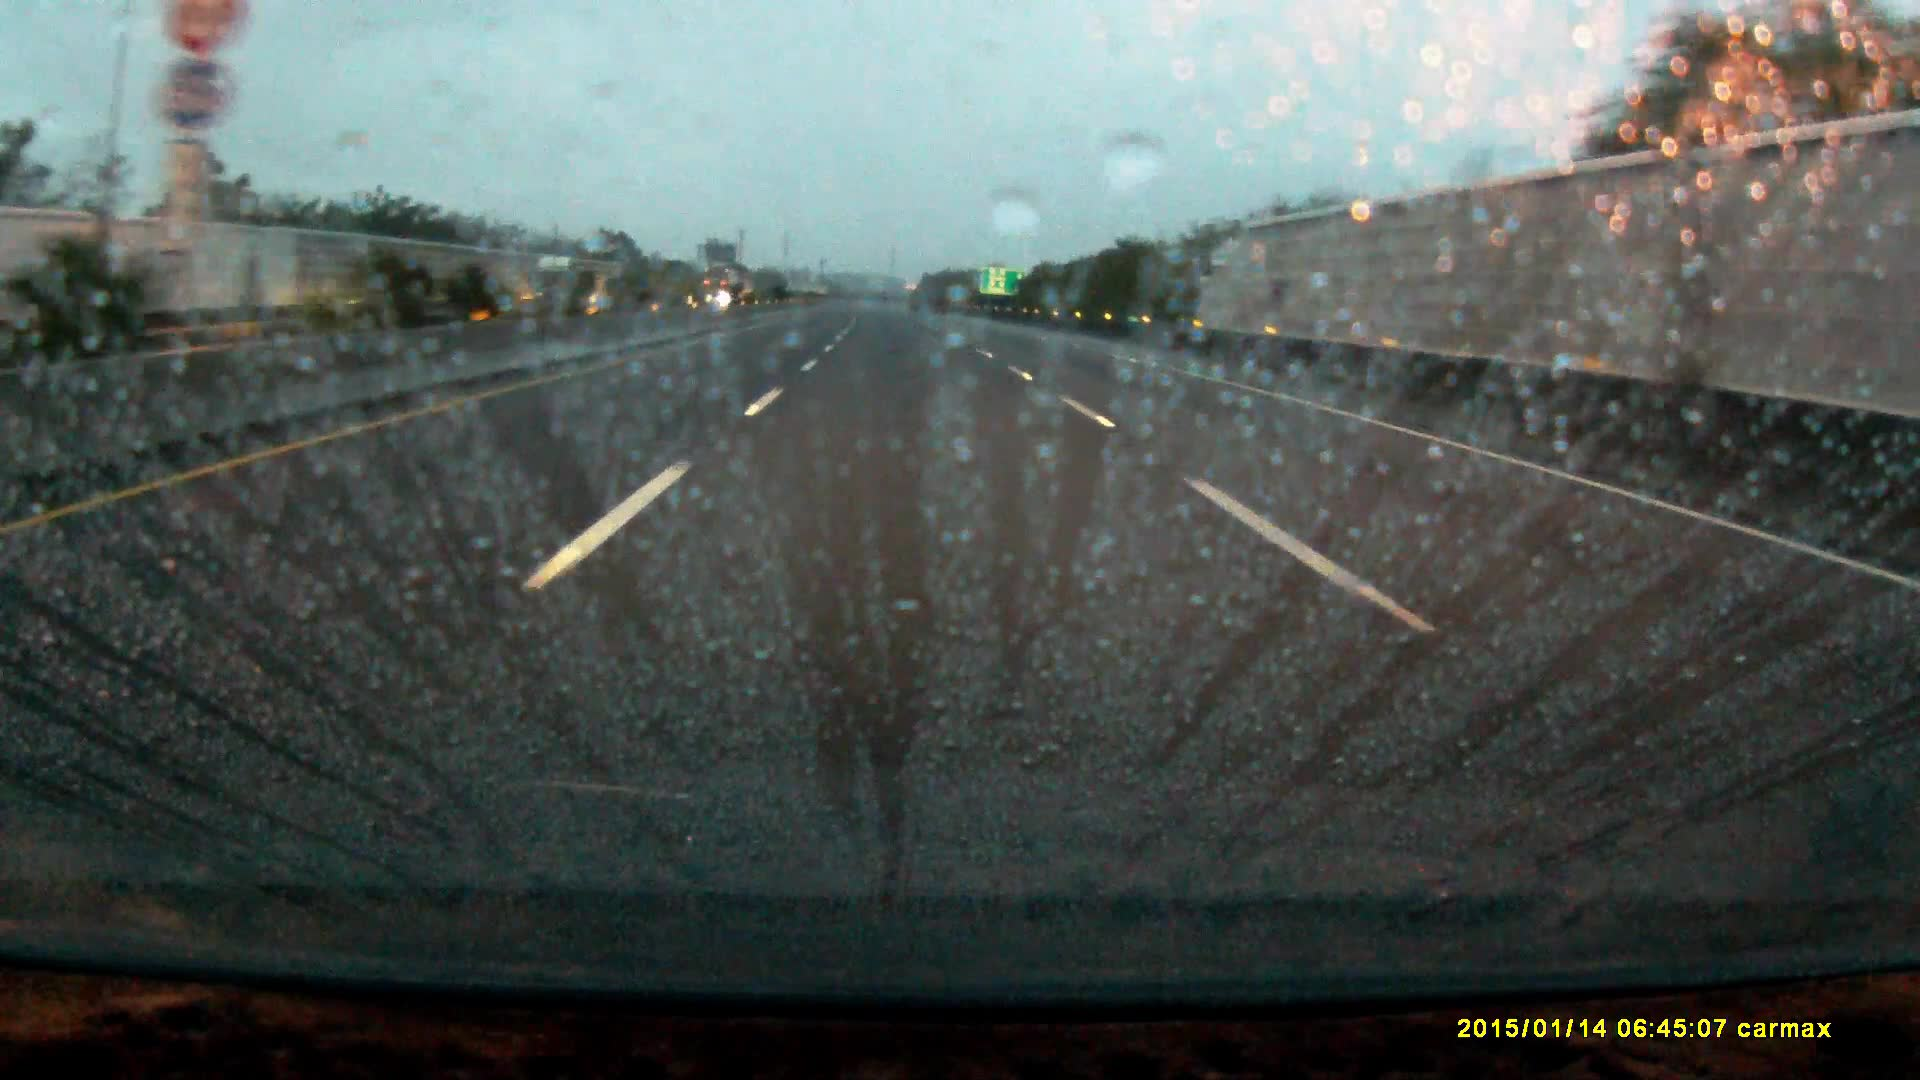vehicle: (531, 256, 604, 309), (700, 273, 738, 309)
